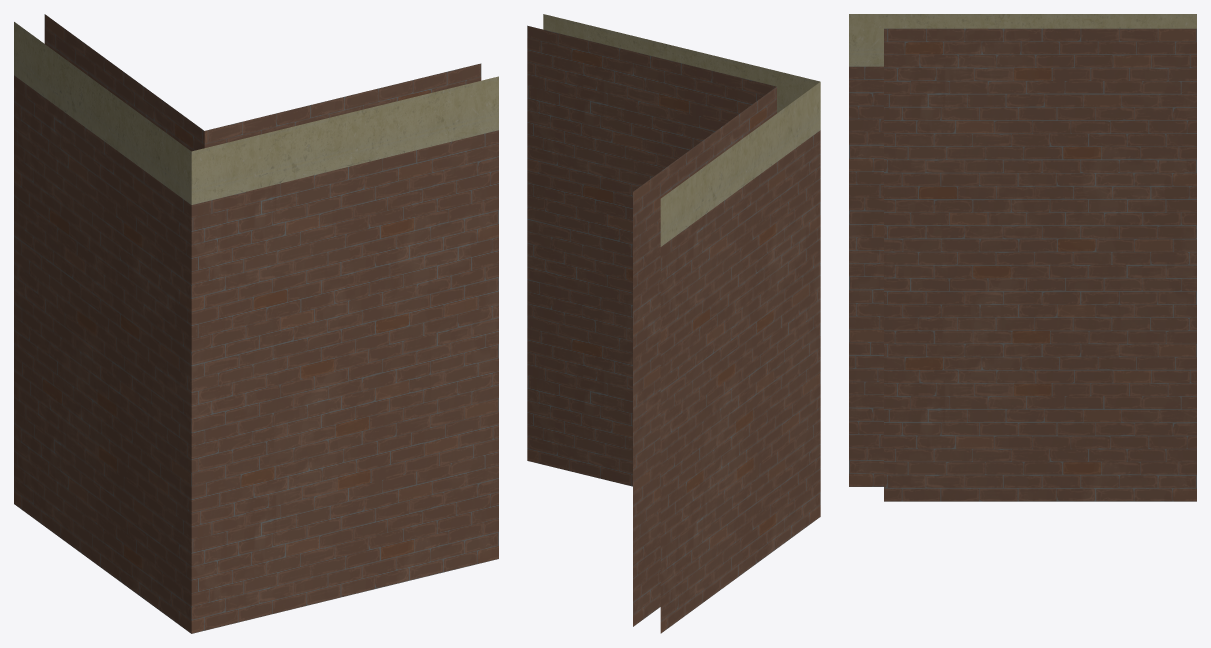
File: Brick_TopTrim_Corner.gltf
3 renders of one model, left to right at view 1: azimuth 30°, elevation 25°; view 2: azimuth 150°, elevation 25°; view 3: azimuth 270°, elevation 25°, orthographic. The views are drawn at different scales.
Visible parts, largest first — view 1: Brick_TopTrim_Corner; view 2: Brick_TopTrim_Corner; view 3: Brick_TopTrim_Corner.
Boxes of the visible parts, x1,y1,x2,y2 form: Brick_TopTrim_Corner: (14, 14, 498, 633); Brick_TopTrim_Corner: (527, 14, 820, 633); Brick_TopTrim_Corner: (849, 14, 1196, 501).
Bounding box in the file's own units: 2 × 3 × 2.
Materials: 3 (3 with a texture image).
